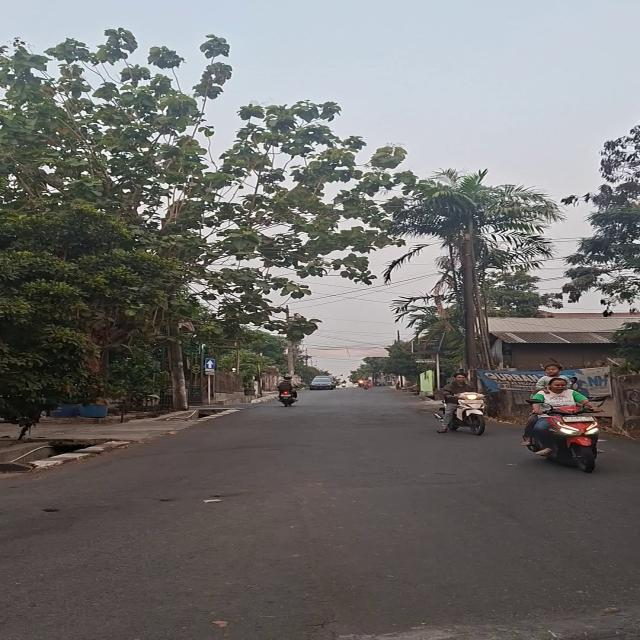WithHelmet: (274, 374, 299, 403)
WithoutHelmet: (522, 364, 603, 473), (429, 373, 490, 436)
